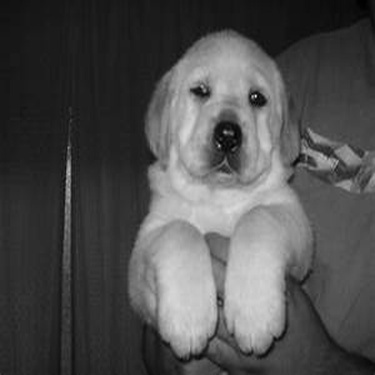dog: (108, 17, 323, 369)
